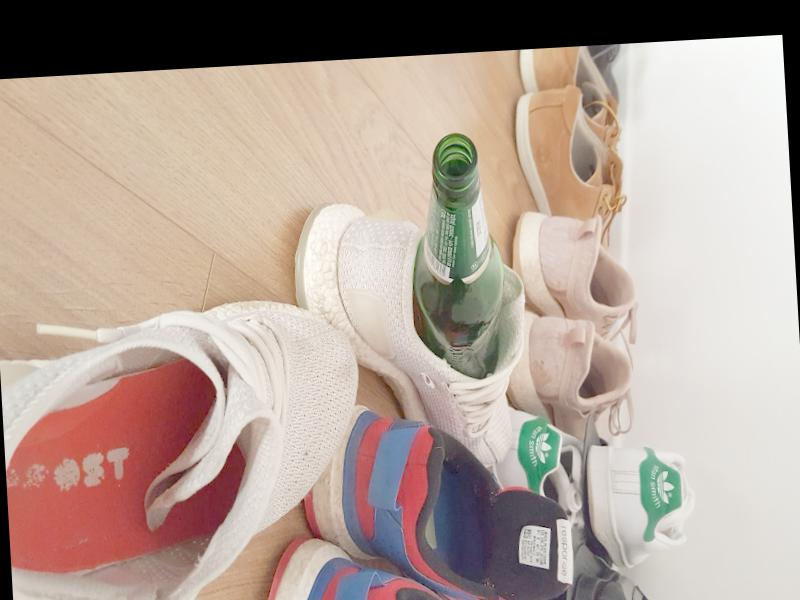Beer: (404, 131, 507, 382)
